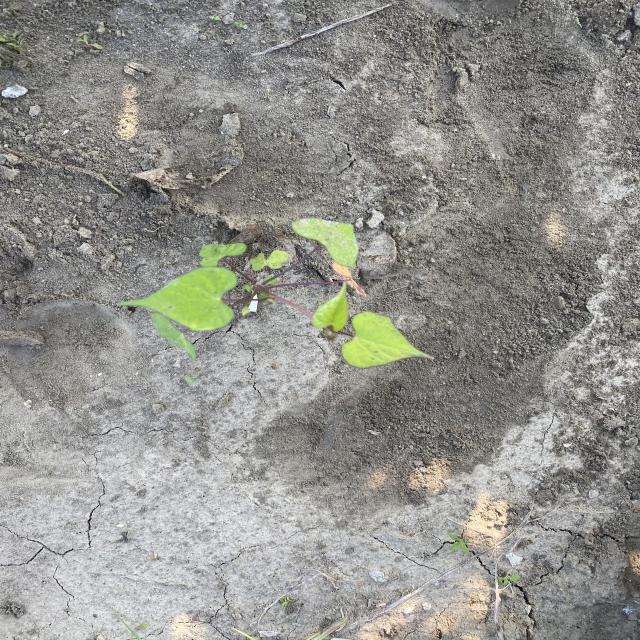MorningGlory: (112, 216, 438, 371)
